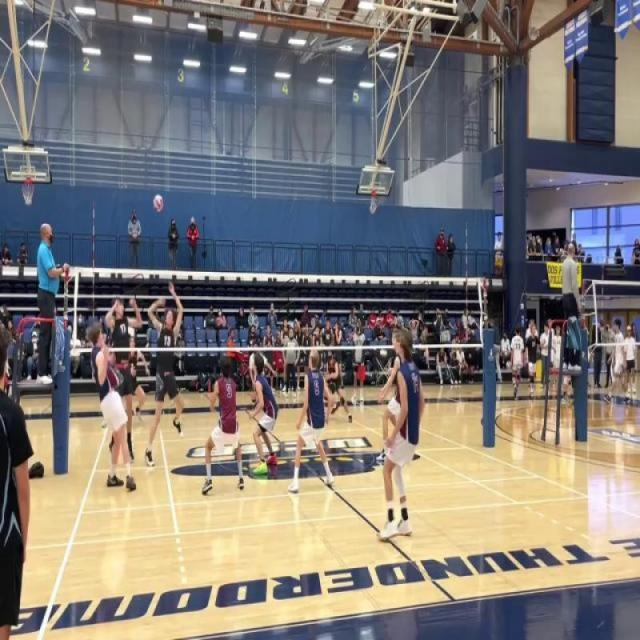volleyball: (152, 193, 164, 213)
